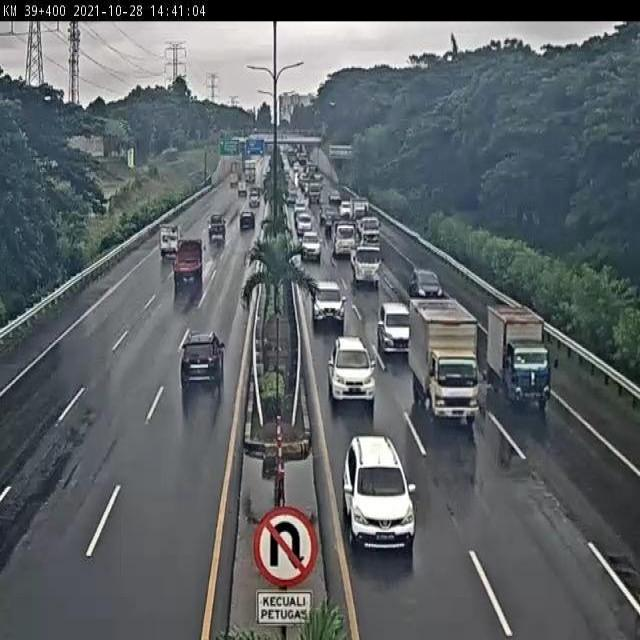car: (342, 436, 415, 553), (328, 336, 375, 405), (180, 330, 226, 390), (377, 301, 410, 356), (311, 279, 345, 325), (409, 268, 443, 300)
mid truck: (171, 236, 205, 285)
truck-m-: (409, 298, 482, 426), (351, 244, 382, 287)
truck-s-: (486, 301, 553, 412)
